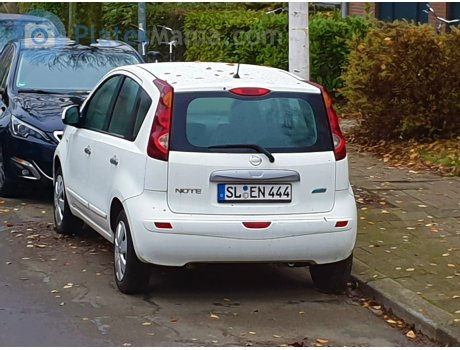License Plates: (224, 186, 293, 196)
